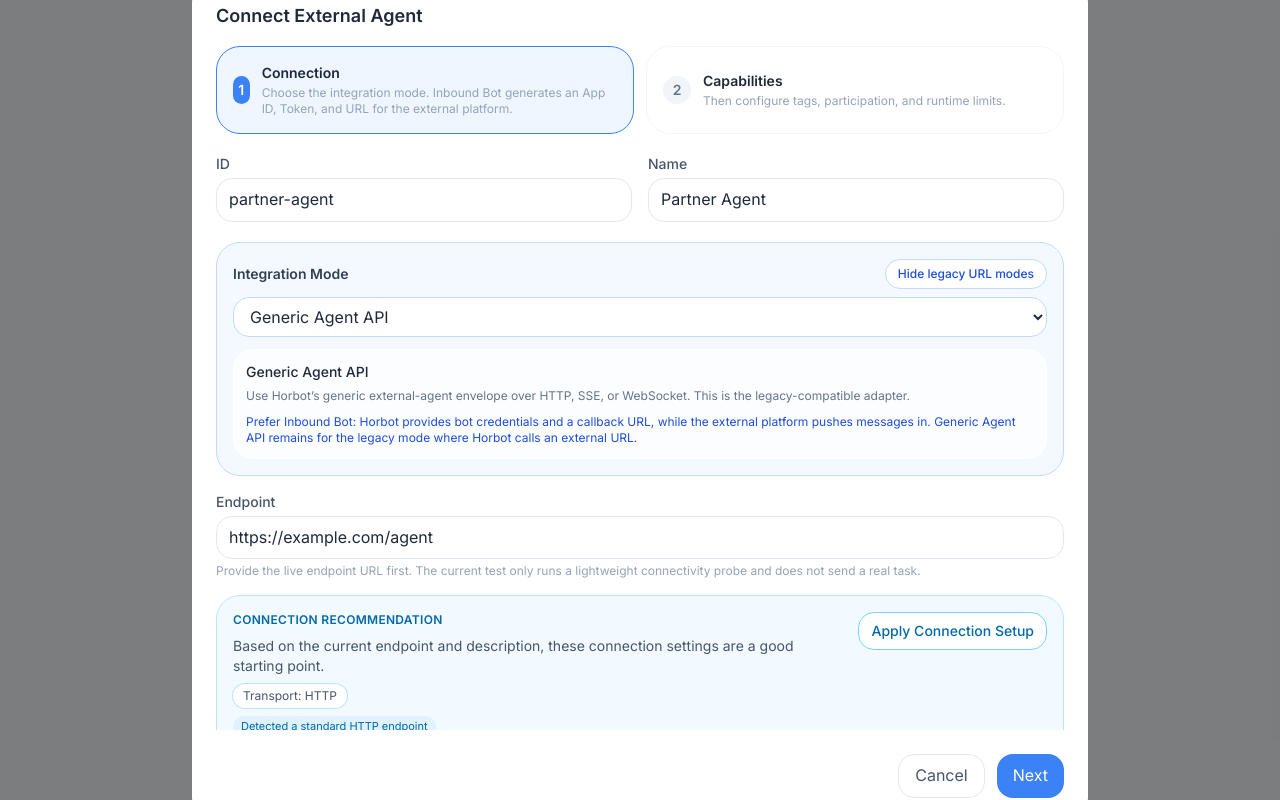
ExternalAgentFormModal › splits the form into connection and capability steps
This screenshot has width=1280, height=800.
Click the button with test id "external-form-next".
click(1030, 776)  # box [997,754,1064,798]
(page scrolled)
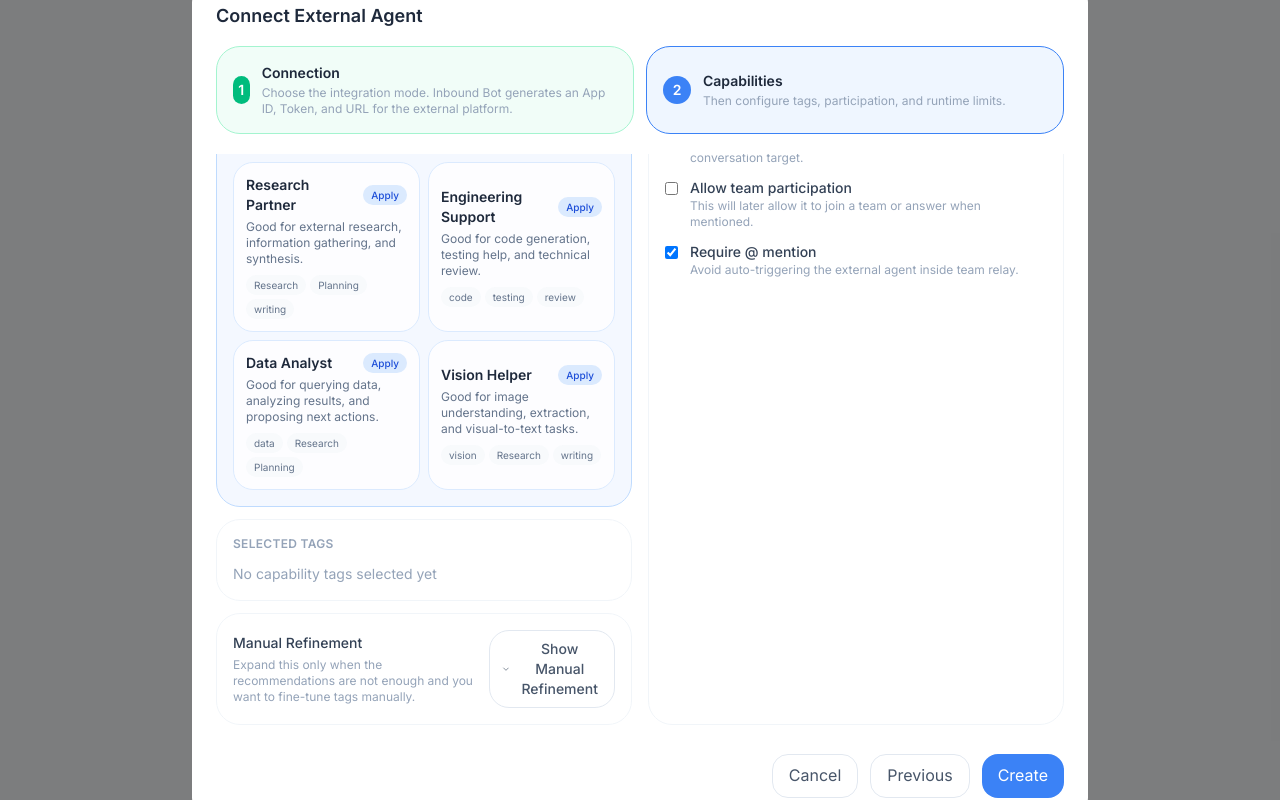
expect the element with test id "external-form-step-behavior" is shown: met, box [216,154,1064,730]
